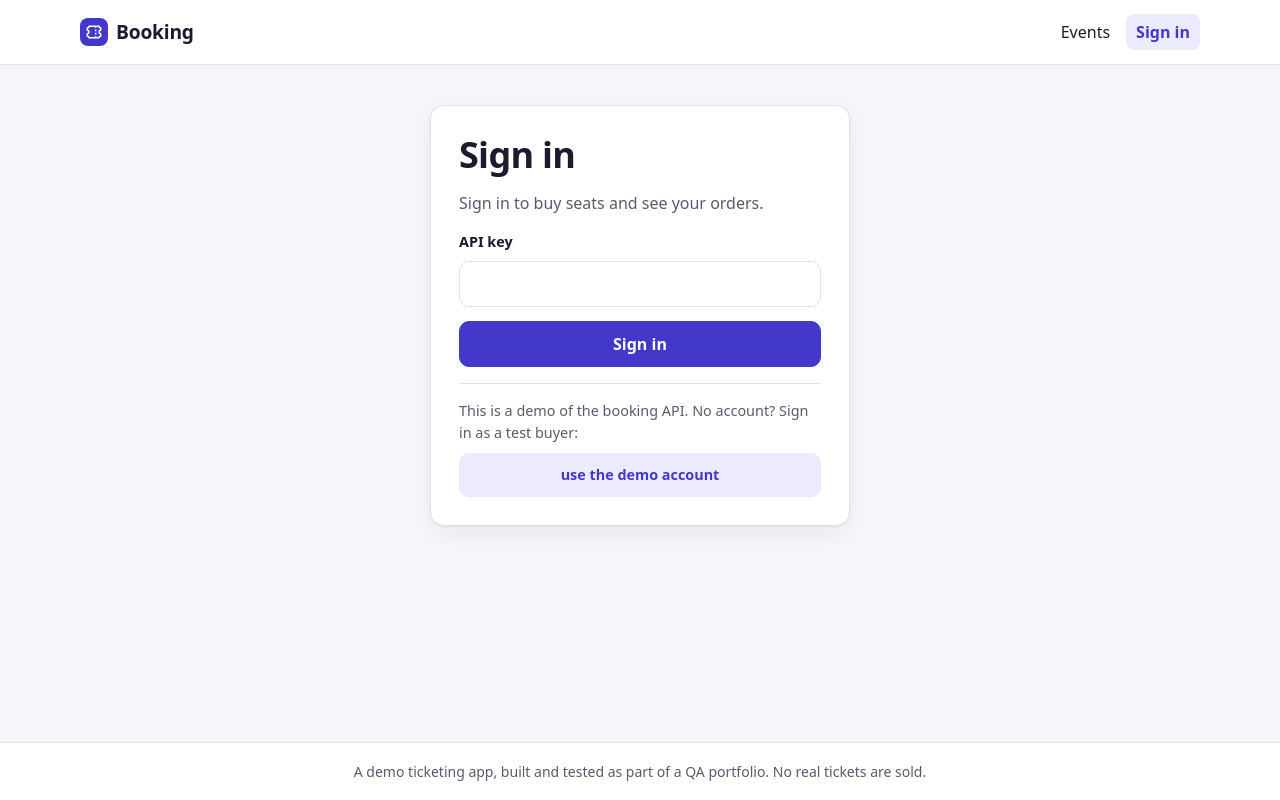
Scenario: SignInPage › rejects an unknown key
This screenshot has width=1280, height=800.
Step 1. Type "key-nobody" into the password field labelled "API key" → point(640, 284), box [459,261,821,307]
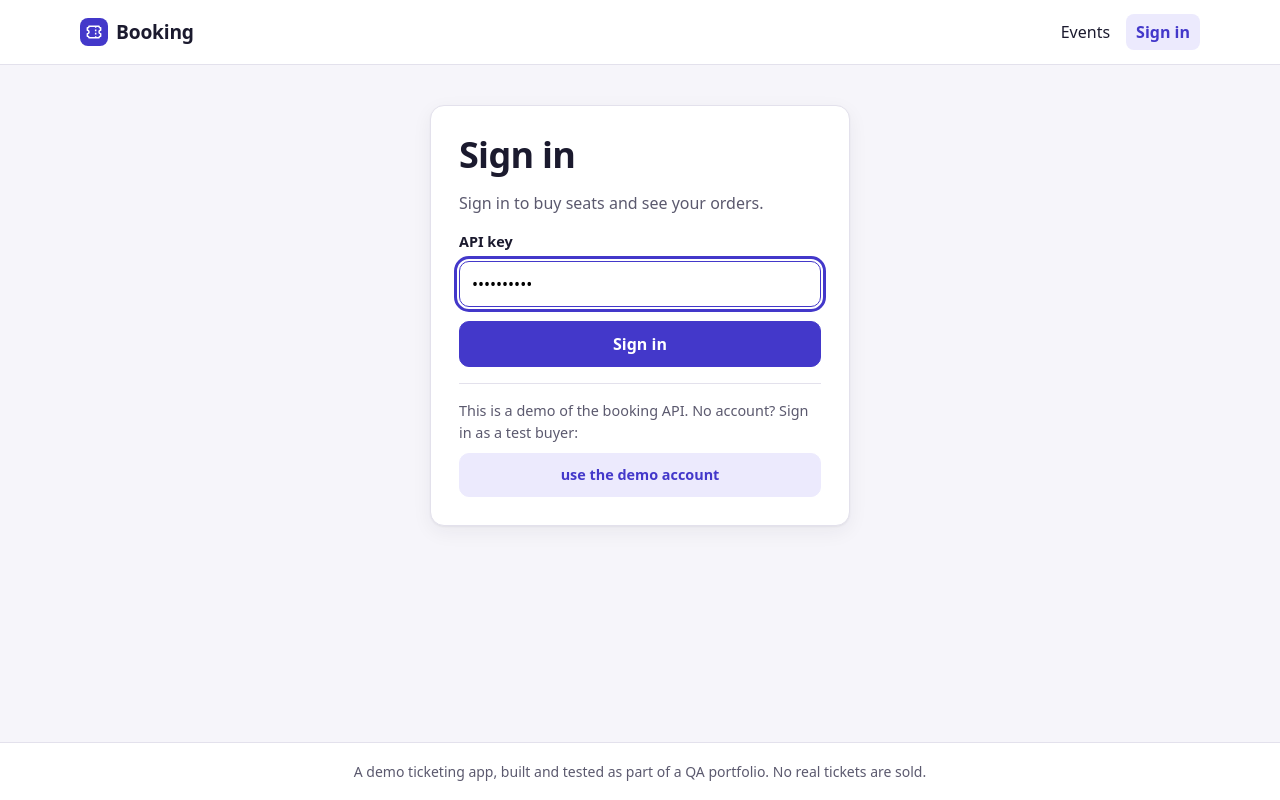
Step 2. Click the button "Sign in" → point(640, 344), box [459,321,821,367]
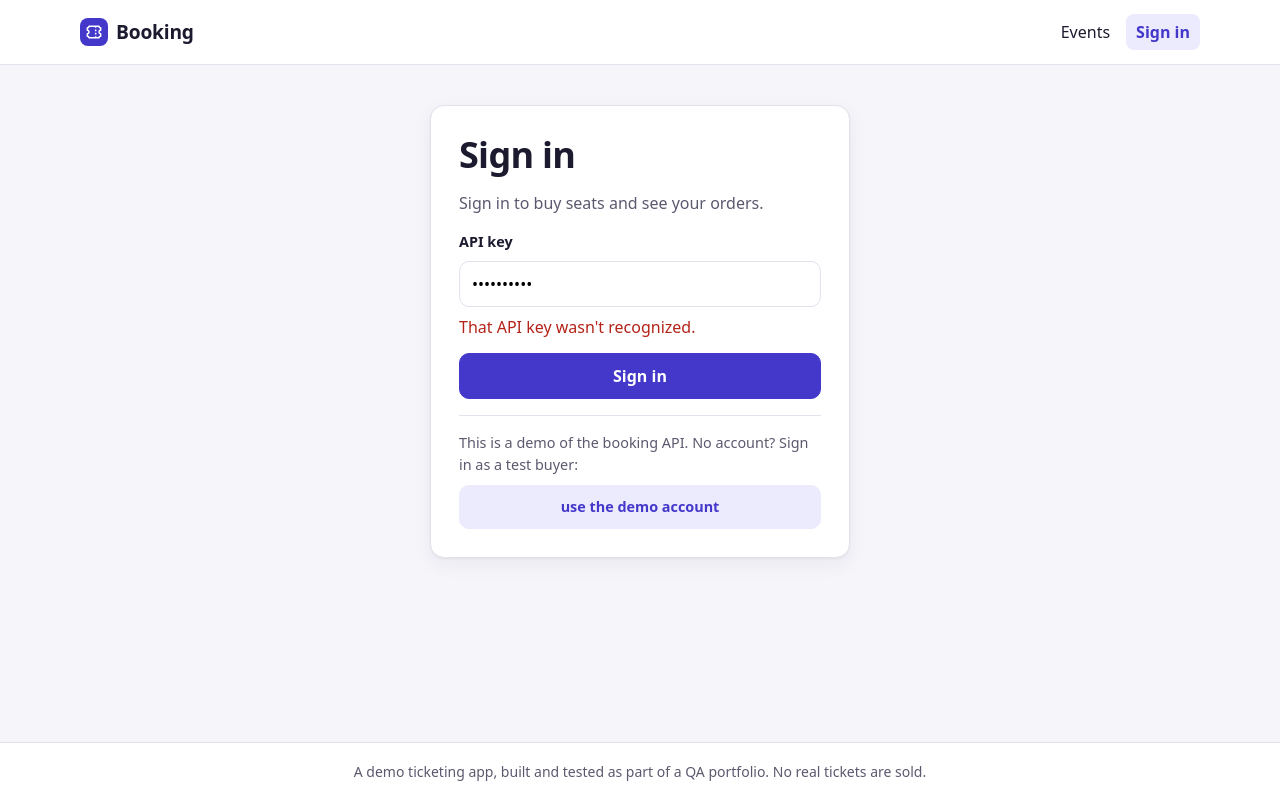
Now the message reads "That API key wasn't recognized.", box [459,316,695,338]
